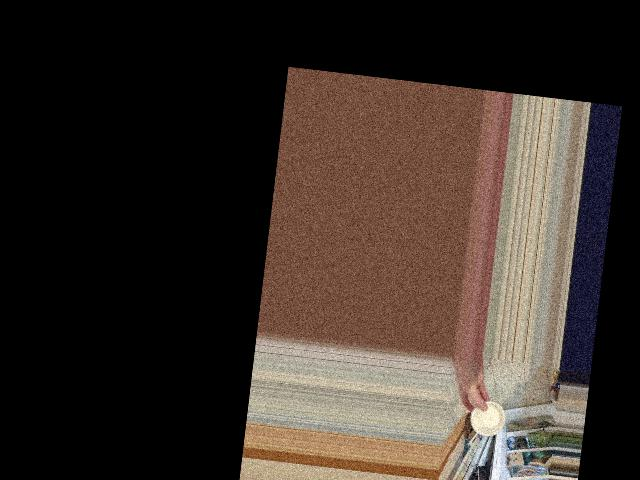cotage: (465, 398, 504, 437)
